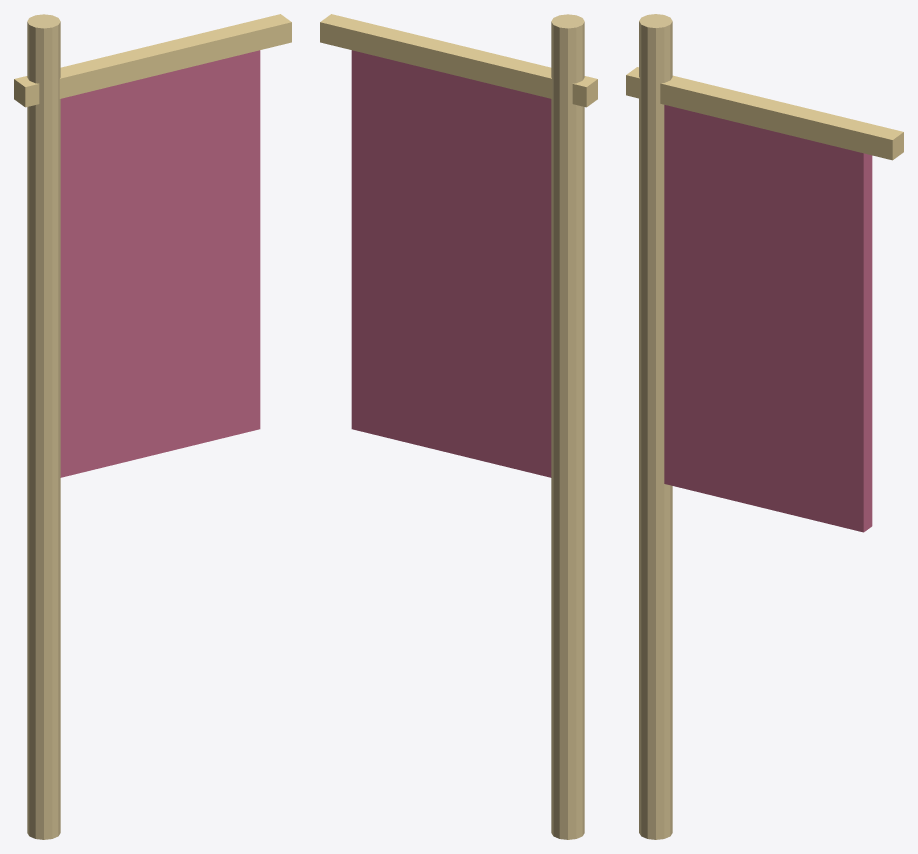
Rendered from banner_crimson.glb.
3 renders of one model, left to right at view 1: azimuth 30°, elevation 25°; view 2: azimuth 150°, elevation 25°; view 3: azimuth 330°, elevation 25°, orthographic.
Parts seen in each view (by area): view 1: cloth, pole, crossbar; view 2: cloth, pole, crossbar; view 3: cloth, pole, crossbar.
Boxes of the visible parts, <box> form: cloth: <box>60,50,260,477</box>; pole: <box>27,14,60,839</box>; crossbar: <box>14,14,291,107</box>; cloth: <box>351,50,551,477</box>; pole: <box>551,14,584,839</box>; crossbar: <box>320,14,597,107</box>; cloth: <box>664,105,872,532</box>; pole: <box>639,14,672,839</box>; crossbar: <box>626,67,903,160</box>.
Size of the model in its own units: 1.1 by 3.2 by 0.12.
